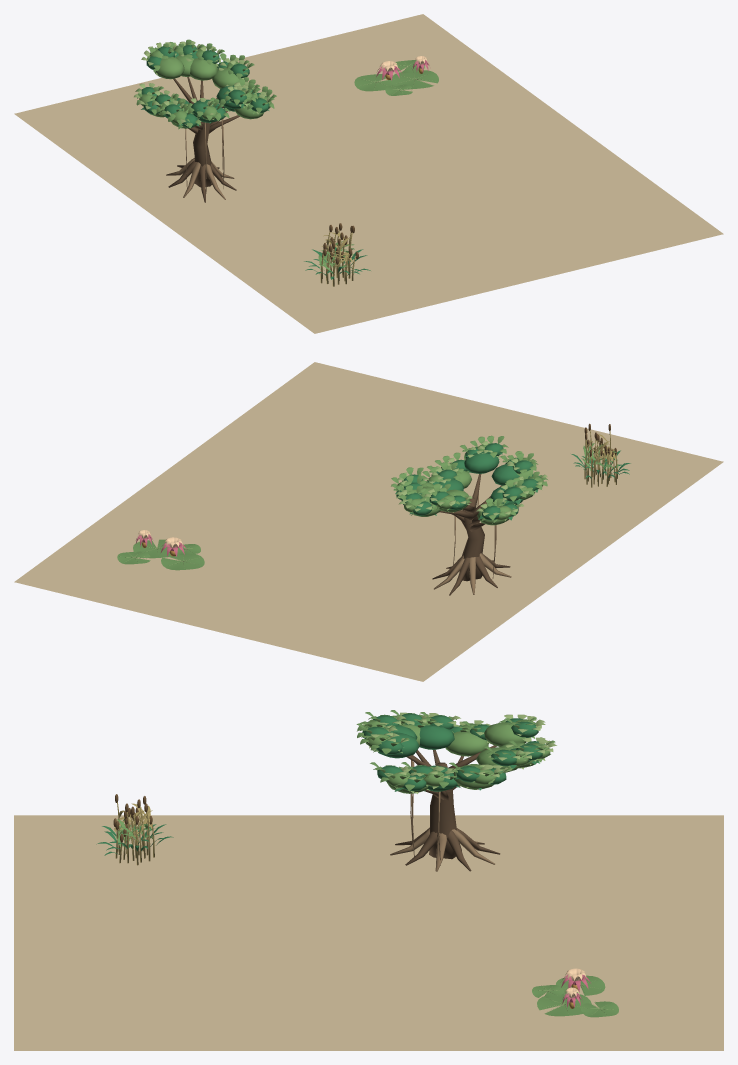
File: room-ford.glb
3 renders of one model, top to bottom at view 1: azimuth 30°, elevation 25°; view 2: azimuth 150°, elevation 25°; view 3: azimuth 270°, elevation 25°, orthographic. The views are drawn at different scales.
Parts seen in each view (by area): view 1: Surveyed floor · room-ford, Reed Ford · overhanging roots, Reed Ford · cupped lotus leaves, Reed Ford · bronze reed heads; view 2: Surveyed floor · room-ford, Reed Ford · overhanging roots, Reed Ford · cupped lotus leaves, Reed Ford · bronze reed heads; view 3: Surveyed floor · room-ford, Reed Ford · overhanging roots, Reed Ford · cupped lotus leaves, Reed Ford · bronze reed heads.
Boxes of the visible parts, left/top/right/bottom form: Surveyed floor · room-ford: left=14, top=14, right=723, bottom=333; Reed Ford · overhanging roots: left=134, top=39, right=276, bottom=202; Reed Ford · cupped lotus leaves: left=354, top=56, right=438, bottom=95; Reed Ford · bronze reed heads: left=304, top=223, right=370, bottom=286; Surveyed floor · room-ford: left=14, top=362, right=723, bottom=681; Reed Ford · overhanging roots: left=391, top=435, right=547, bottom=595; Reed Ford · cupped lotus leaves: left=117, top=530, right=204, bottom=570; Reed Ford · bronze reed heads: left=571, top=423, right=630, bottom=487; Surveyed floor · room-ford: left=14, top=815, right=723, bottom=1050; Reed Ford · overhanging roots: left=356, top=710, right=556, bottom=871; Reed Ford · cupped lotus leaves: left=532, top=968, right=618, bottom=1017; Reed Ford · bronze reed heads: left=96, top=794, right=173, bottom=865.
Size of the model in its own units: 11 by 2.93 by 14.
